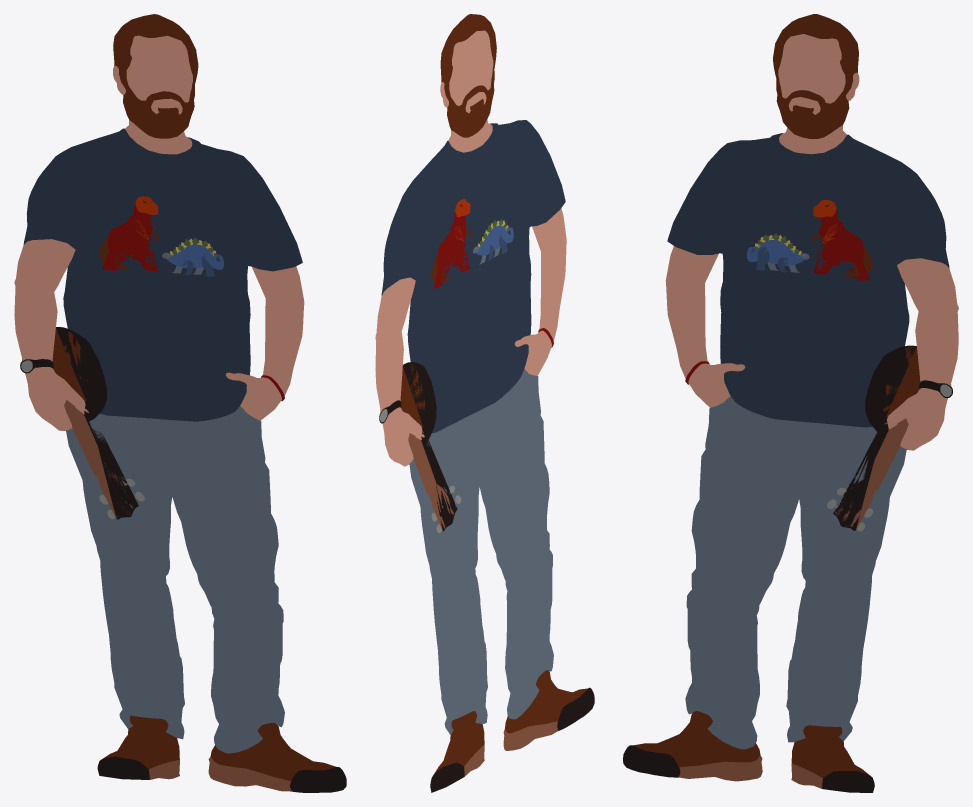
3 views of the same model, side by side, from view 1: azimuth 90°, elevation 25°; view 2: azimuth 150°, elevation 25°; view 3: azimuth 270°, elevation 25° (orthographic).
Parts seen in each view (by area): view 1: Ty; view 2: Ty; view 3: Ty.
Boxes of the visible parts, x1,y1,x2,y2 form: Ty: [14, 14, 346, 792]; Ty: [375, 14, 594, 792]; Ty: [623, 14, 958, 792].
Bounding box in the file's own units: 14.27 × 191 × 75.
